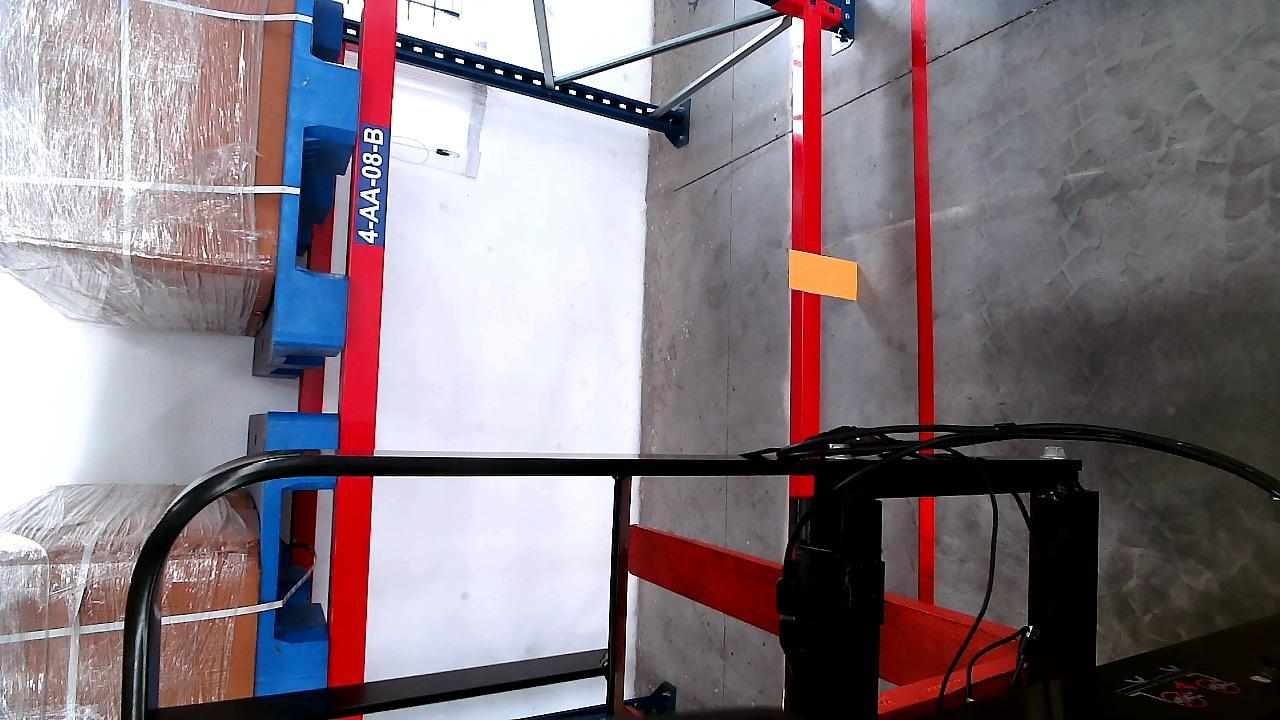red_line: (911, 0, 934, 437)
